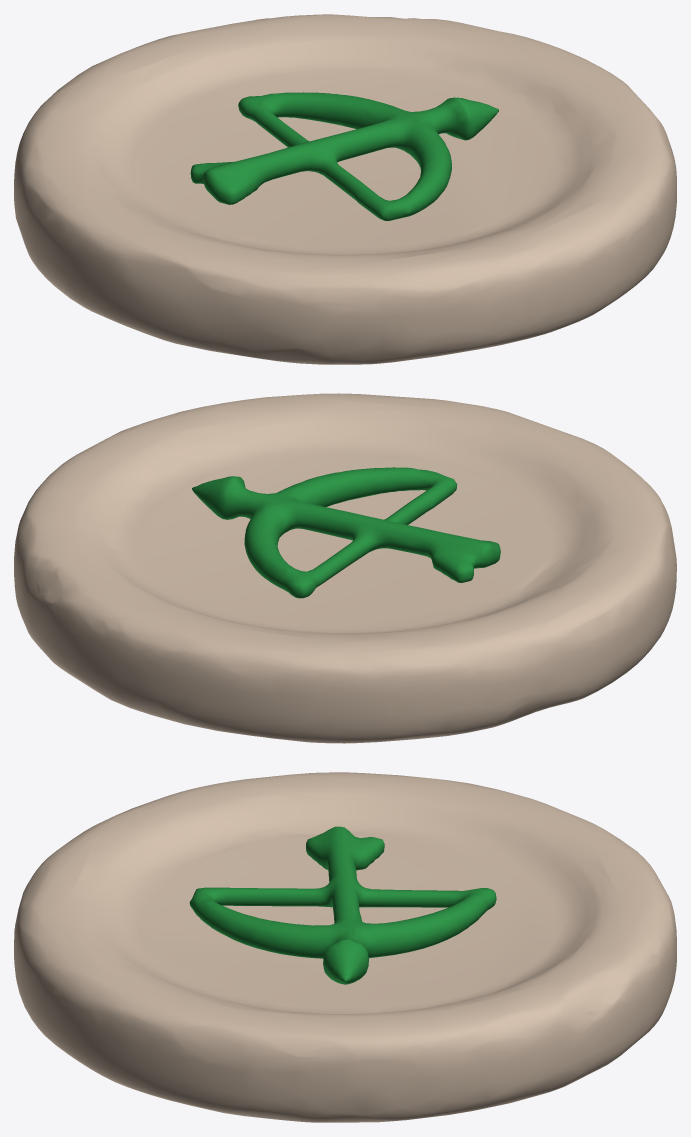
The model's file is token-archer-red.glb.
The picture shows the model from 3 angles, top to bottom: view 1: azimuth 30°, elevation 25°; view 2: azimuth 150°, elevation 25°; view 3: azimuth 270°, elevation 25°; orthographic projection.
Visible parts, largest first — view 1: token_archer_red; view 2: token_archer_red; view 3: token_archer_red.
Part boxes in pixels (x1=…): token_archer_red: x1=14, y1=14, x2=676, y2=364; token_archer_red: x1=14, y1=393, x2=676, y2=743; token_archer_red: x1=14, y1=772, x2=676, y2=1122.
Size of the model in its own units: 0.414 by 0.0748 by 0.4142.
